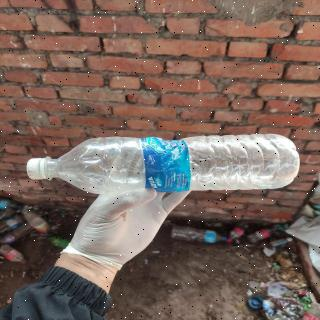Plastic-bottle: (24, 132, 303, 200)
